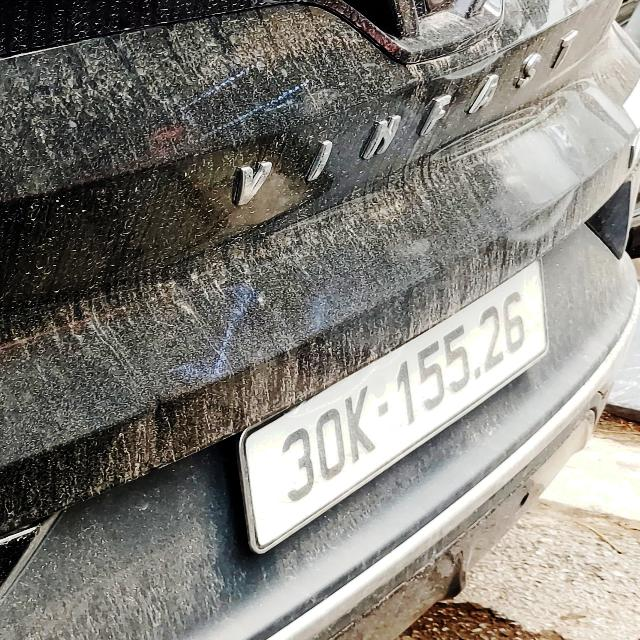license_plate: (244, 261, 551, 555)
